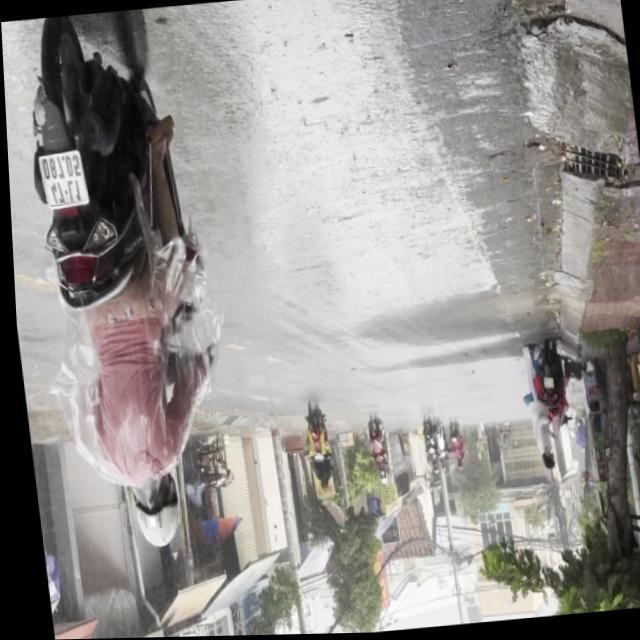helmet: (123, 475, 177, 553)
licenseplate: (3, 5, 235, 565)
nohelmet: (34, 152, 85, 210)
